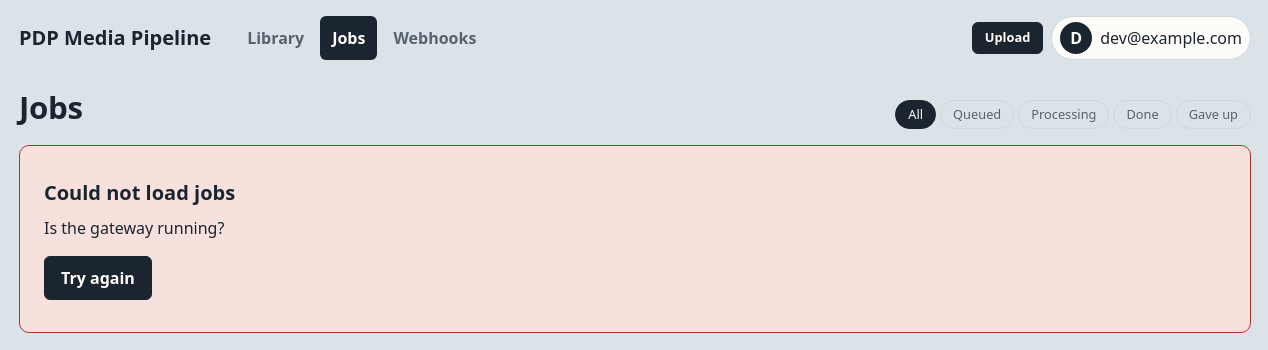
Test: jobs sheet › reports a failed load and recovers on retry
The width and height of the screenshot is (1268, 350).
expect the message shows "Could not load jobs": met, box [44, 179, 235, 206]
Click the button "Try again": (98, 278) [44, 256, 152, 300]
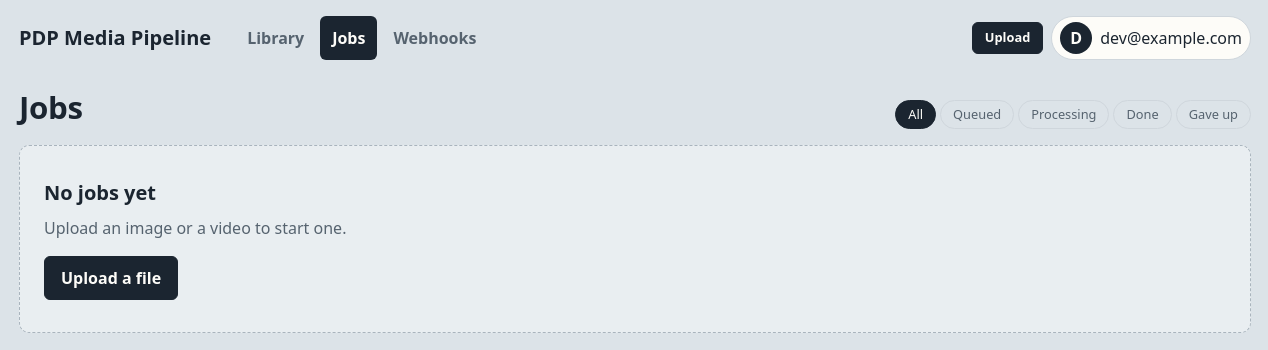
expect the heading "No jobs yet" is shown: met, box [44, 178, 156, 208]
